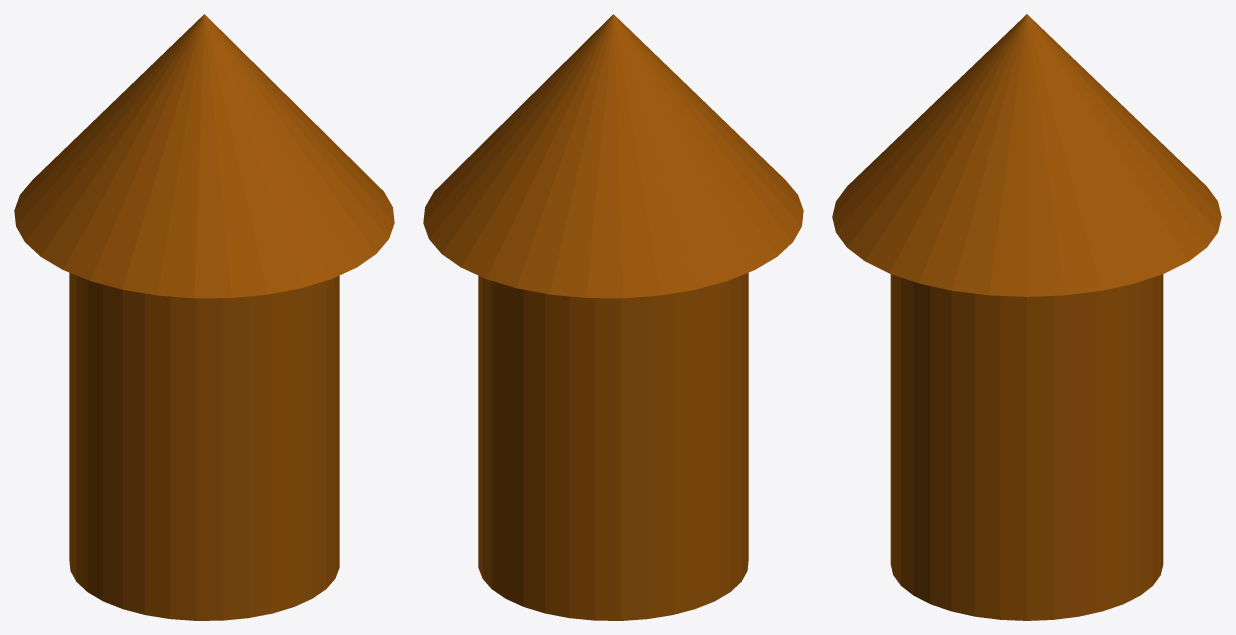
Rendered from firework.fbx.
3 views of the same model, side by side, from view 1: azimuth 30°, elevation 25°; view 2: azimuth 150°, elevation 25°; view 3: azimuth 270°, elevation 25° (orthographic).
Parts seen in each view (by area): view 1: Cylinder; view 2: Cylinder; view 3: Cylinder.
Boxes of the visible parts, <box> form: Cylinder: <box>14,14,394,620</box>; Cylinder: <box>423,14,803,620</box>; Cylinder: <box>832,14,1221,620</box>.
Bounding box in the file's own units: 338 × 542 × 348.
